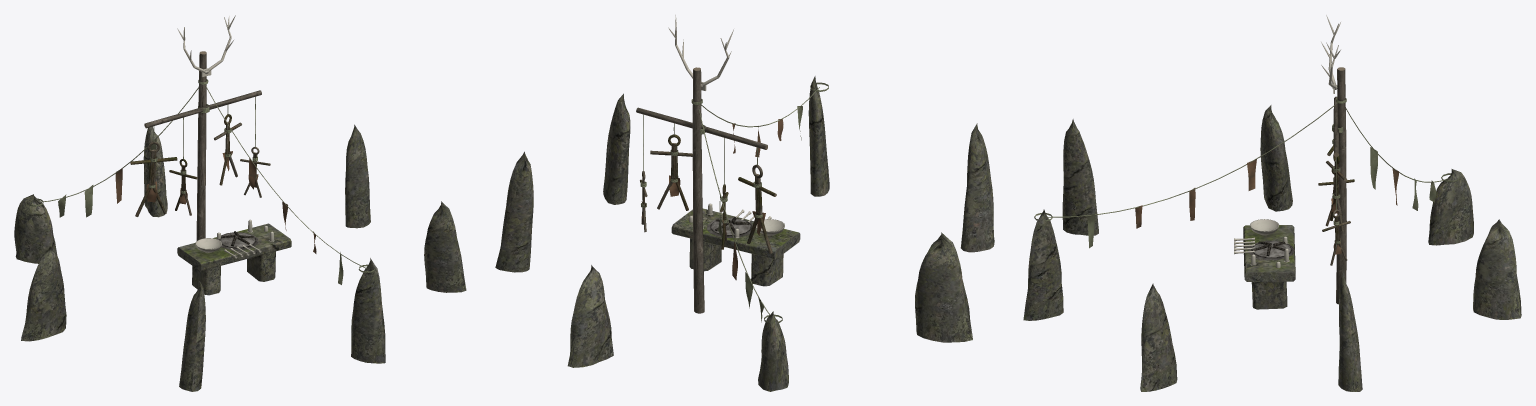
File: shrine.glb
The picture shows the model from 3 angles, left to right: view 1: azimuth 30°, elevation 25°; view 2: azimuth 150°, elevation 25°; view 3: azimuth 270°, elevation 25°; orthographic projection. The views are drawn at different scales.
Visible parts, largest first — view 1: shrine; view 2: shrine; view 3: shrine.
Part boxes in pixels (left/top/right/bottom): shrine: left=14, top=15, right=466, bottom=391; shrine: left=495, top=15, right=994, bottom=391; shrine: left=1023, top=15, right=1521, bottom=391.
Size of the model in its own units: 7.03 by 4.41 by 7.21.
Materials: 1 (1 with a texture image).
